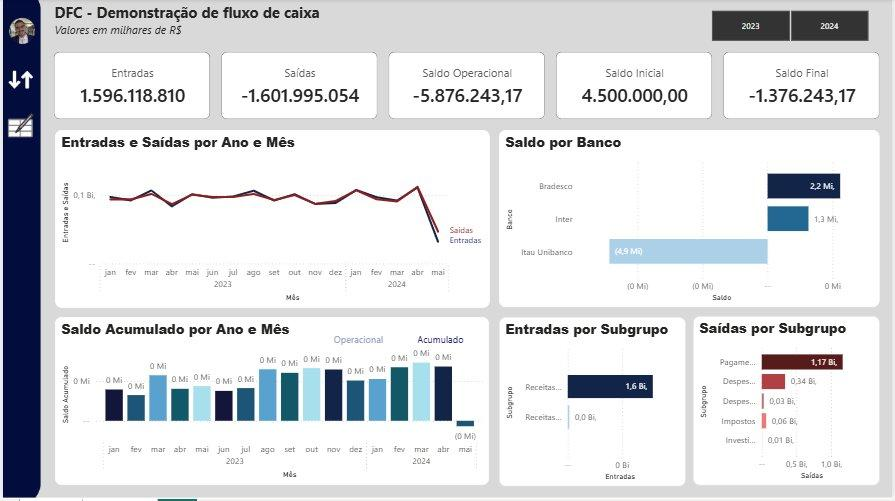

This screenshot's page, from the dashboard's own definition file:
{"tool":"powerbi","page":{"name":"DFC","canvas":[1280,720],"ordinal":0},"visuals":[{"type":"textbox","box":[68.9,0,469.6,79.6],"z":0,"group":"g4"},{"type":"actionButton","box":[0,156.2,56,56],"z":0},{"type":"areaChart","fields":{"Category":["dCalendario.Ano","dCalendario.MesAbrev"],"Y":["Medidas.Entradas","Medidas.Saídas Abs"]},"box":[75,188,625.8,256.4],"z":0,"group":"g3"},{"type":"group","id":"g1","title":"Variacão de saldos","box":[75,457,625.2,242.9],"z":0,"group":"g2"},{"type":"clusteredColumnChart","fields":{"Category":["dCalendario.Ano","dCalendario.MesAbrev"],"Y":["Medidas.Saldo Final"]},"box":[75,457.9,625.2,242],"z":0,"group":"g1"},{"type":"slicer","fields":{"Values":["dCalendario.Ano"]},"box":[995.3,9.8,275.1,57],"z":1000,"group":"g4"},{"type":"clusteredBarChart","fields":{"Category":["dBancos.Banco"],"Y":["Medidas.Saldo Final"]},"box":[714,188.6,548,255.4],"z":1000,"group":"g3"},{"type":"bookmarkNavigator","box":[458.5,467.9,227.3,45.5],"z":1000,"group":"g2"},{"type":"cardVisual","fields":{"Data":["Medidas.Entradas","Medidas.Saídas","Medidas.Saldo Operacional","Medidas.Saldo Inicial","Medidas.Saldo Final"]},"box":[56,59,1224,131],"z":2000,"group":"g4"},{"type":"clusteredBarChart","fields":{"Category":["dContas.Subgrupo","dContas.Conta"],"Y":["Medidas.Entradas"]},"box":[714,458,269,244],"z":2000,"group":"g2"},{"type":"group","id":"g2","title":"Inferior","box":[75,457,1188.3,245],"z":3000},{"type":"clusteredBarChart","fields":{"Category":["dContas.Subgrupo","dContas.Conta"],"Y":["Medidas.Saídas Abs"]},"box":[994.3,457,269,244],"z":3000,"group":"g2"},{"type":"group","id":"g3","title":"Superior","box":[75,188,1187,256.4],"z":3500},{"type":"group","id":"g4","title":"Header","box":[56,0,1224,190],"z":4000}]}

Visuals, with their boxes in screenshot pixels (x1, y1, x2, y2), scaled from the page's 1280x720 canvas onto the 895x501 screenshot:
textbox: crop(48, 0, 377, 55)
actionButton: crop(0, 109, 39, 148)
areaChart - dCalendario.Ano x dCalendario.MesAbrev: crop(52, 131, 490, 309)
"Variacão de saldos" group: crop(52, 318, 490, 487)
clusteredColumnChart - dCalendario.Ano x dCalendario.MesAbrev: crop(52, 319, 490, 487)
slicer - dCalendario.Ano: crop(696, 7, 888, 46)
clusteredBarChart - dBancos.Banco x Medidas.Saldo Final: crop(499, 131, 882, 309)
bookmarkNavigator: crop(321, 326, 480, 357)
cardVisual - Medidas.Entradas x Medidas.Saídas: crop(39, 41, 894, 132)
clusteredBarChart - dContas.Subgrupo x dContas.Conta: crop(499, 319, 687, 488)
"Inferior" group: crop(52, 318, 883, 488)
clusteredBarChart - dContas.Subgrupo x dContas.Conta: crop(695, 318, 883, 488)
"Superior" group: crop(52, 131, 882, 309)
"Header" group: crop(39, 0, 894, 132)
